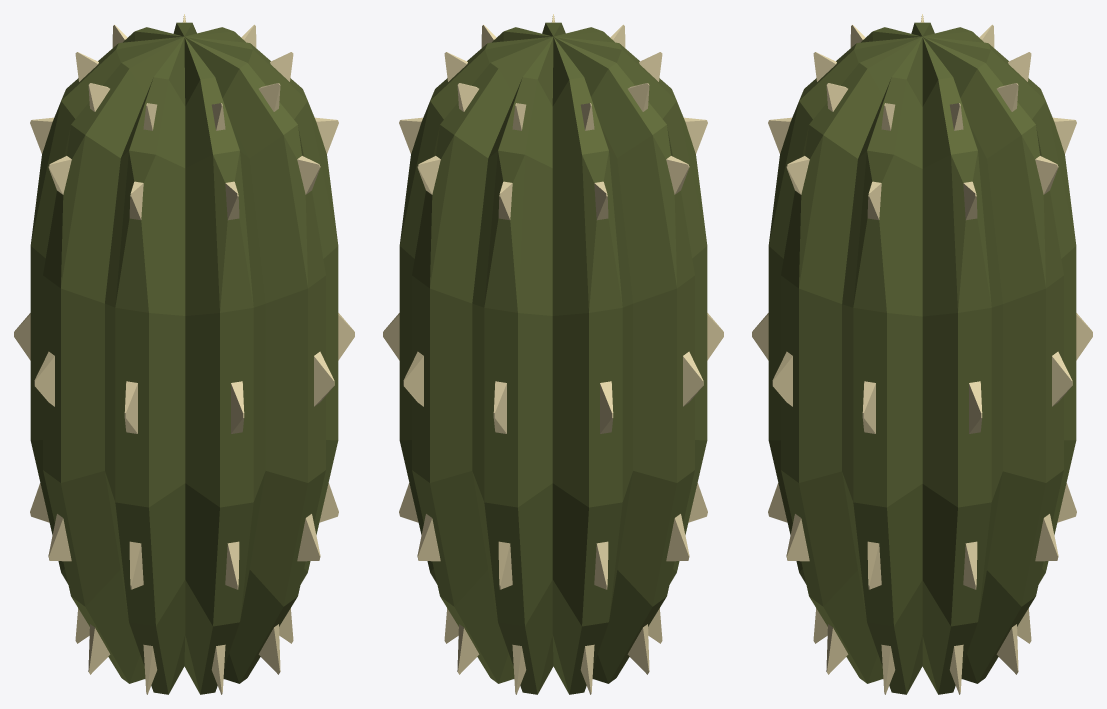
File: Cactus_1_1_2_v02_Colored.fbx
The picture shows the model from 3 angles, left to right: view 1: azimuth 30°, elevation 25°; view 2: azimuth 150°, elevation 25°; view 3: azimuth 270°, elevation 25°; orthographic projection.
Visible parts, largest first — view 1: Cactus_1_1_2_v02; view 2: Cactus_1_1_2_v02; view 3: Cactus_1_1_2_v02.
Part boxes in pixels (x1,y1,x2,y2): Cactus_1_1_2_v02: (14,14,354,694); Cactus_1_1_2_v02: (383,14,723,694); Cactus_1_1_2_v02: (752,14,1092,694).
Bounding box in the file's own units: 95.42 × 198 × 96.89.
